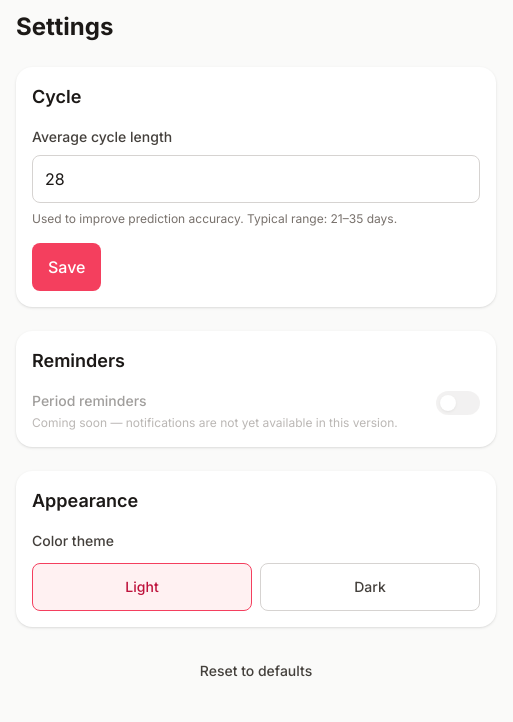
it: SettingsPage › clears validation error when input changes
The image size is (513, 722).
Replace the text in the number field labelled "Average cycle length" with "10" at (256, 179), box [32,155,480,203]
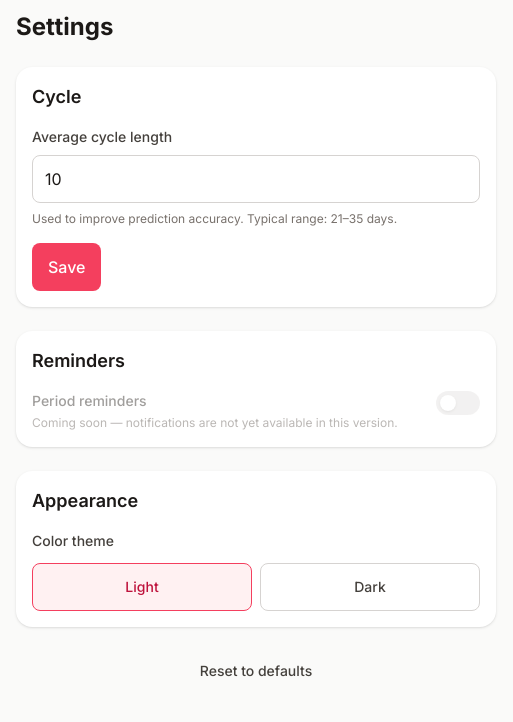
Click the button "Save" at (67, 267), box [32,243,102,291]
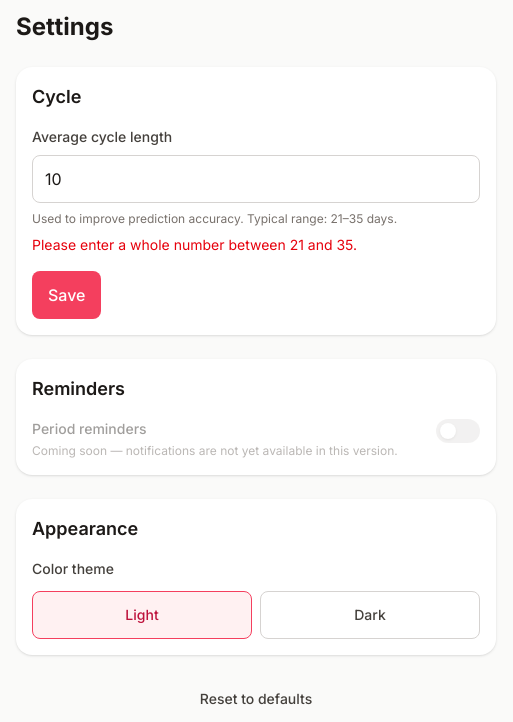
Expected: the message "Please enter a whole number between 21 and 35." is shown, [32,236,357,253]
Replace the text in the number field labelled "Average cycle length" with "28" at (256, 179), box [32,155,480,203]
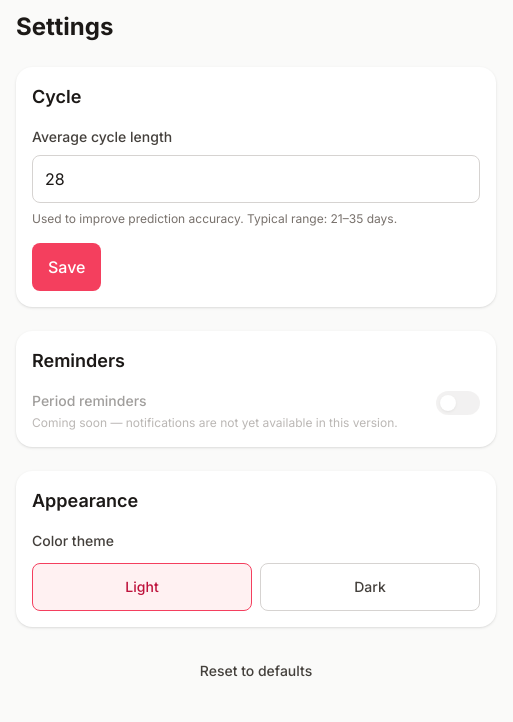
Expected: the message "Please enter a whole number between 21 and 35." is gone
